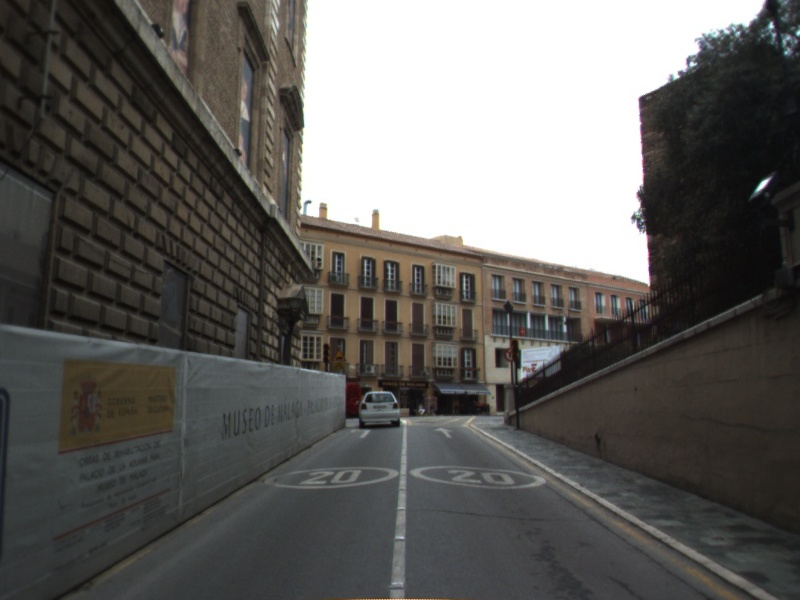LEFT: (348, 426, 373, 440)
STRAIGHT: (431, 425, 457, 440)
